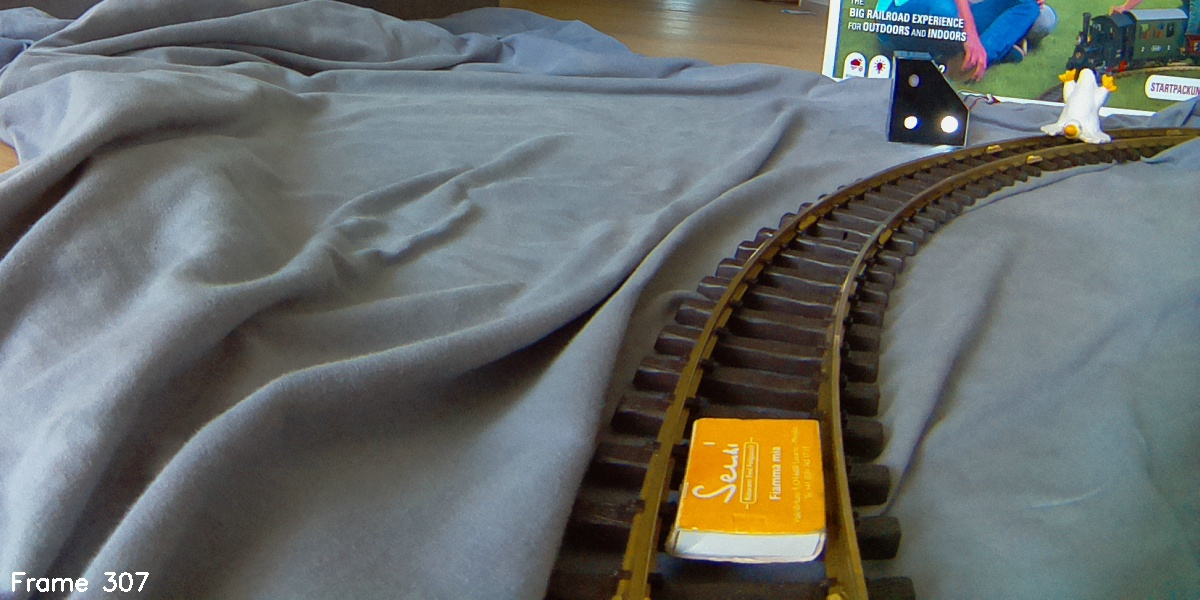Ente: (1040, 67, 1119, 145)
Halt: (886, 51, 969, 150)
